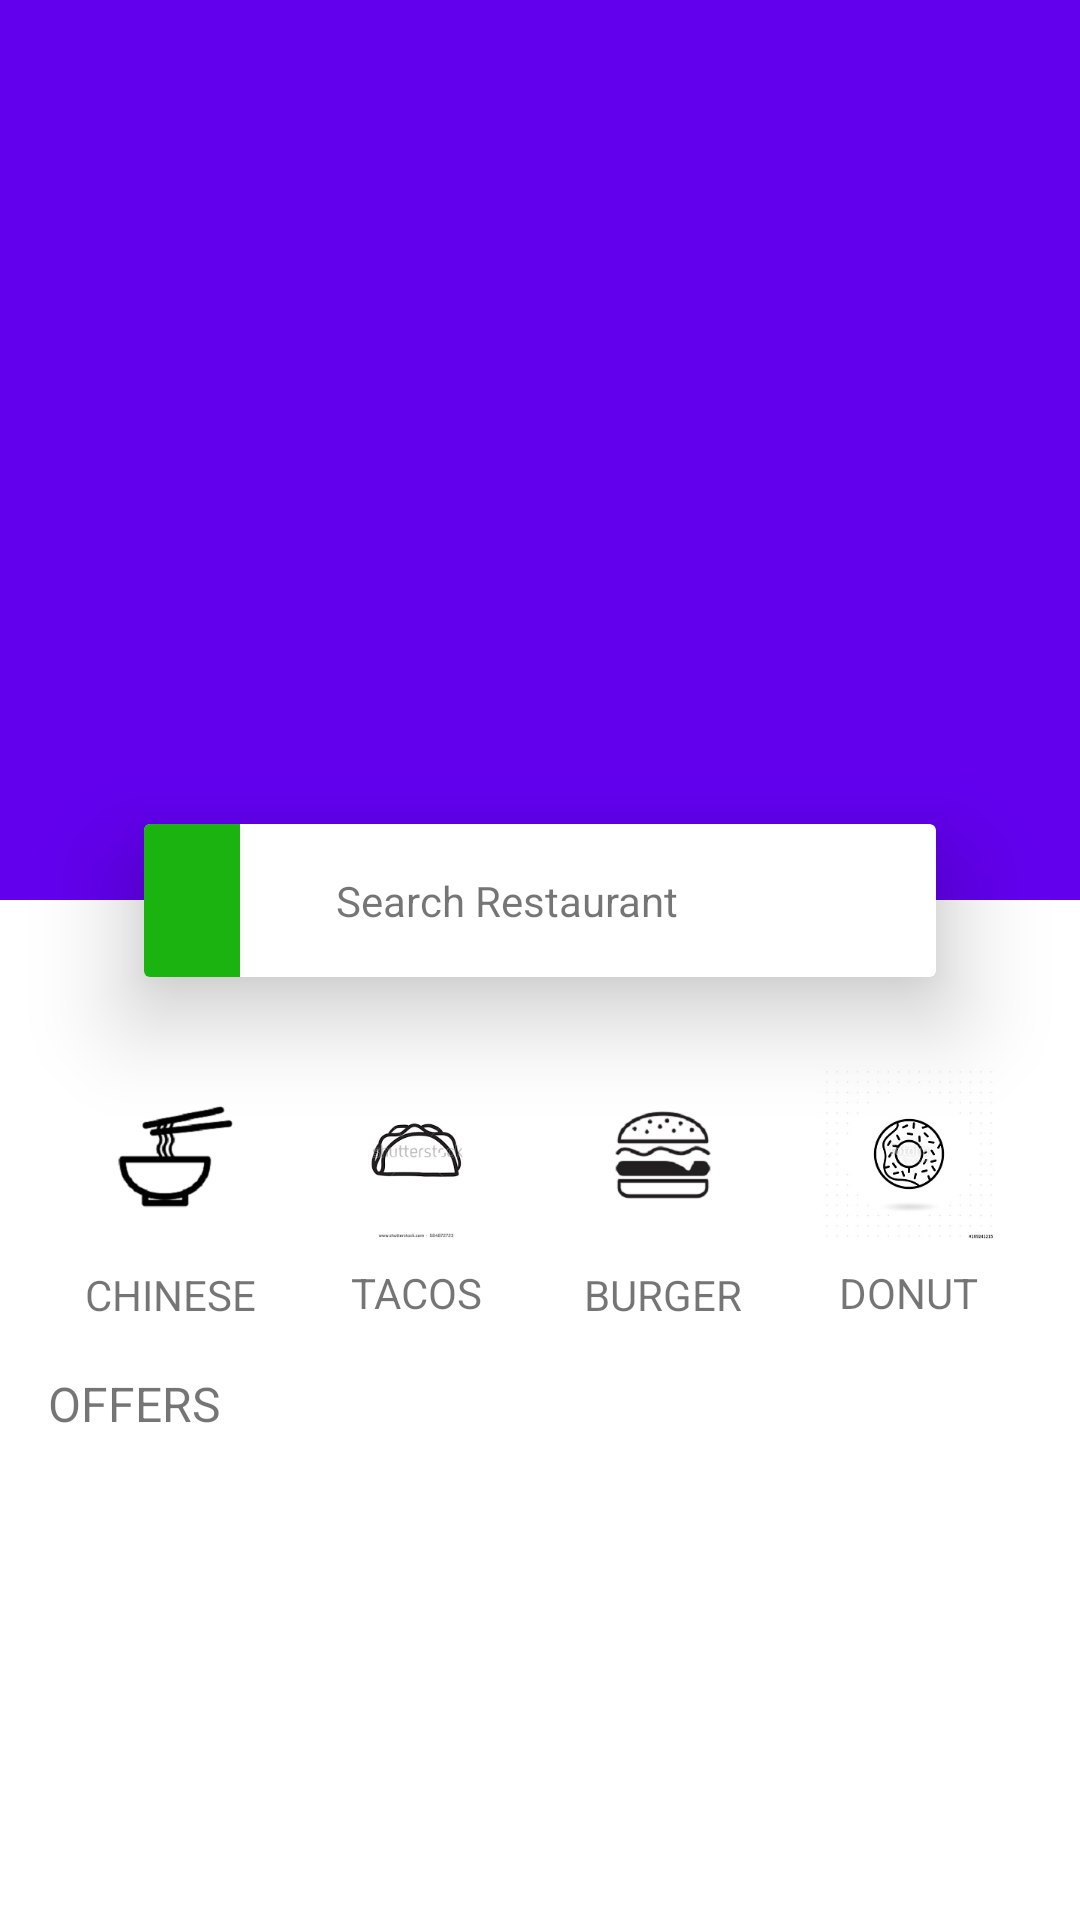

Screen size 1080*1920. Icon name, then its box in pixels as (x1=x1, y1=y1, x2=x2, y2=y2):
noodle: (x1=118, y1=1106, x2=233, y2=1207)
